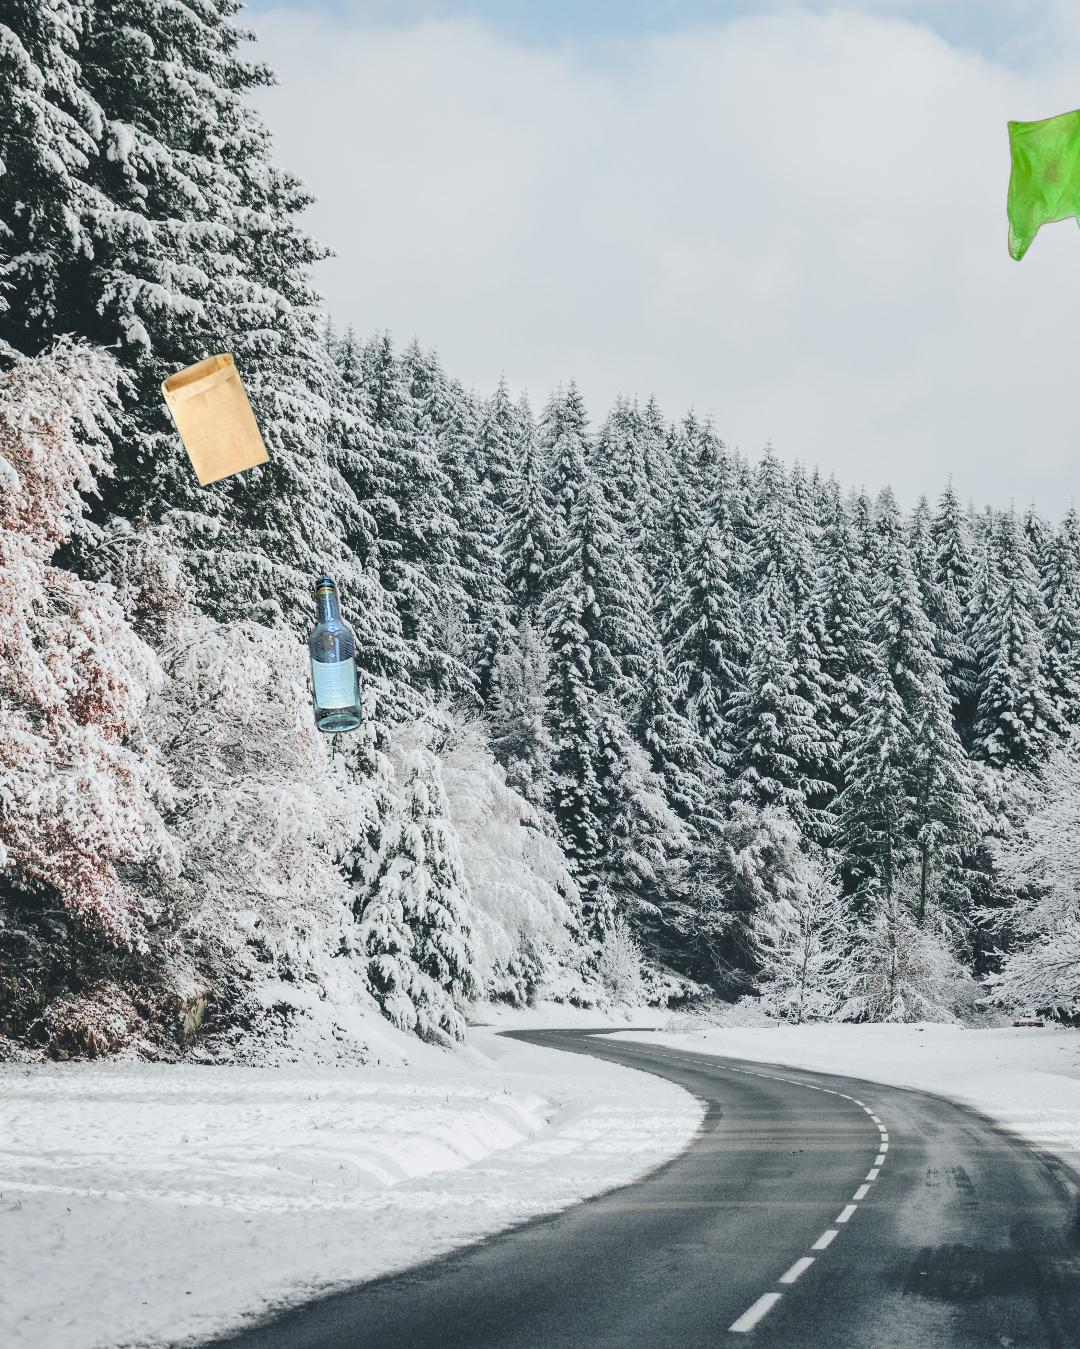glass: (305, 570, 367, 740)
paper-bag: (158, 349, 273, 490)
plastic-bag: (1004, 106, 1080, 265)
